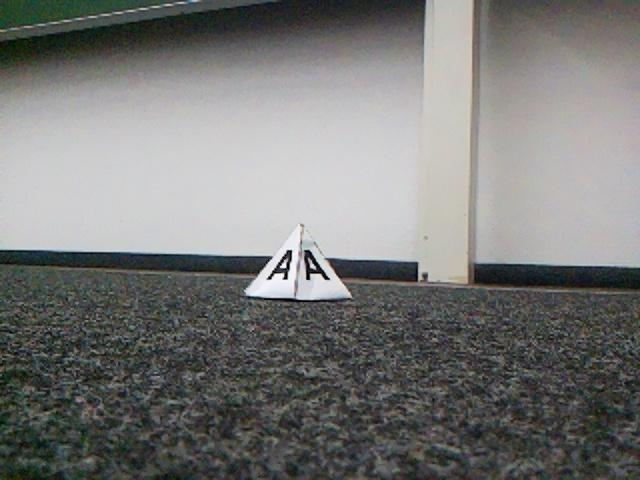A: (244, 222, 349, 300)
